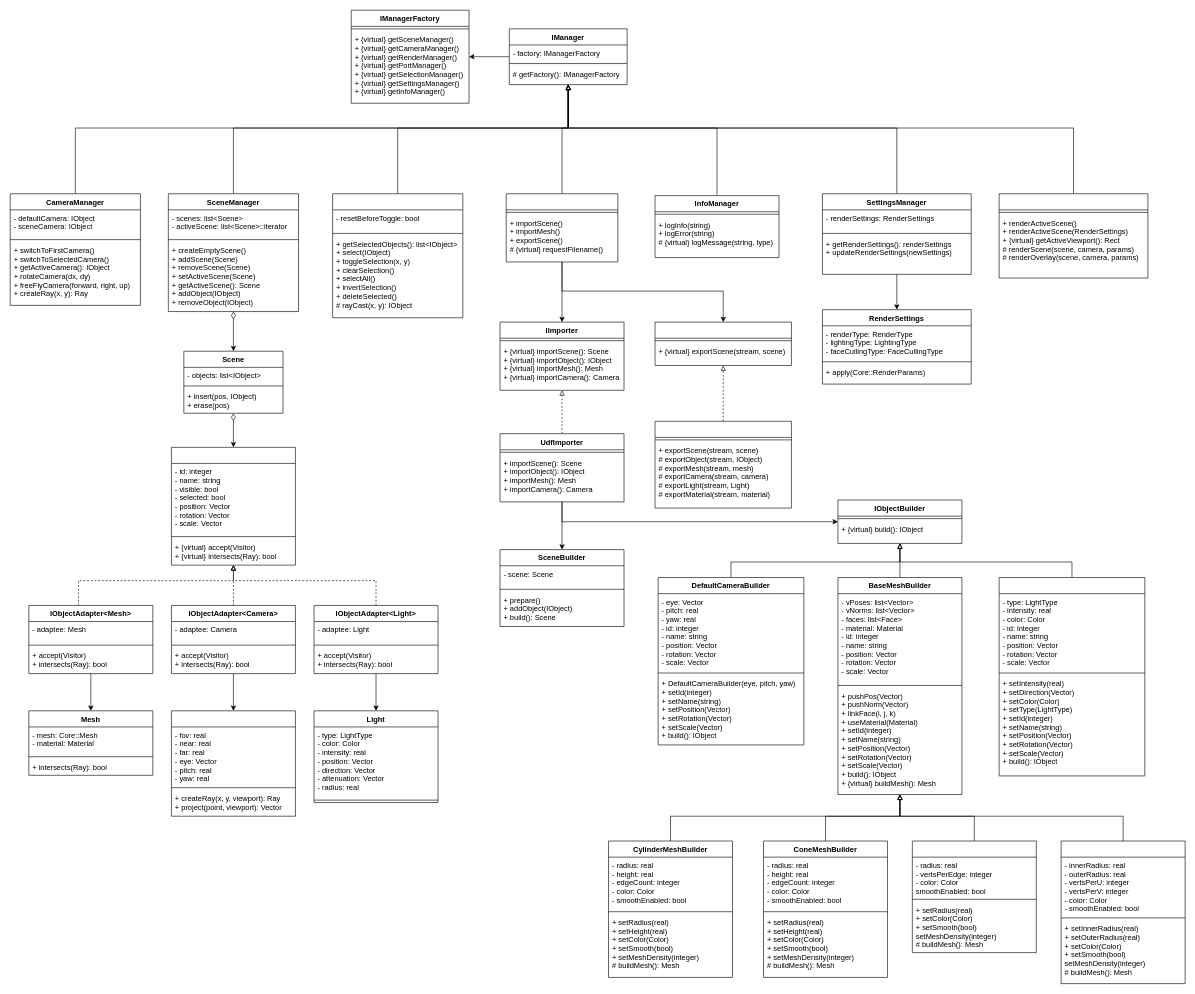
This 1195x994 diagram has some shape labels left out. Each missing label, with the box of its shape:
Camera: (171, 710, 295, 816)
IExporter: (654, 321, 791, 365)
IObject: (171, 447, 295, 565)
LightBuilder: (999, 577, 1145, 776)
PortManager: (506, 193, 618, 262)
RenderManager: (999, 193, 1148, 278)
SelectionManager: (332, 193, 463, 318)
SphereMeshBuilder: (912, 840, 1036, 953)
TorusMeshBuilder: (1061, 840, 1185, 984)
UdfExporter: (654, 421, 791, 508)
